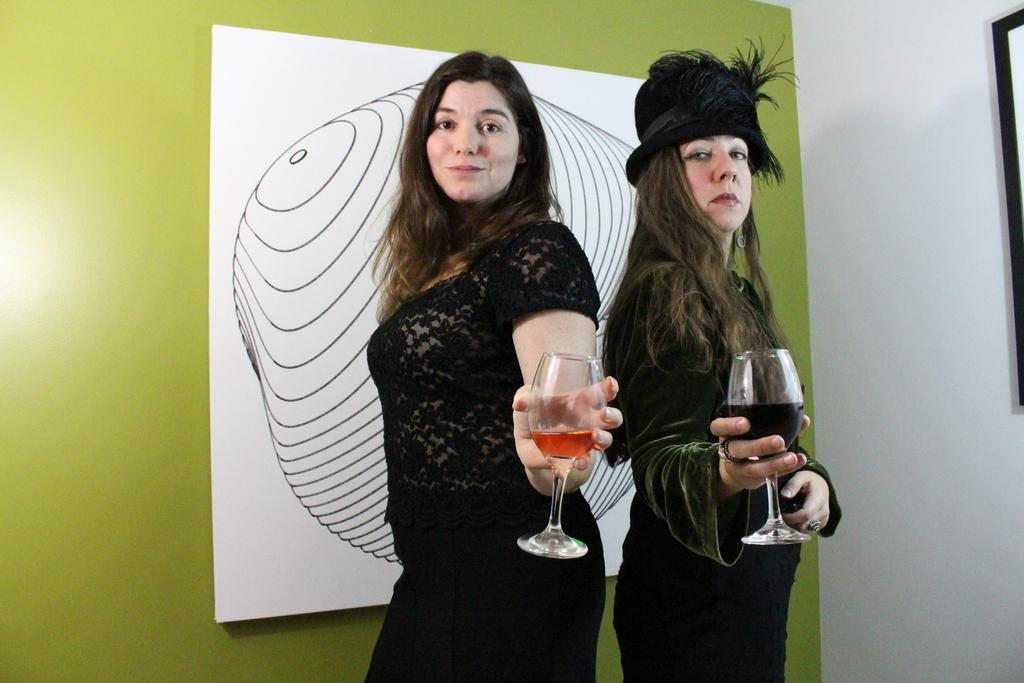Hat: (623, 29, 803, 190)
